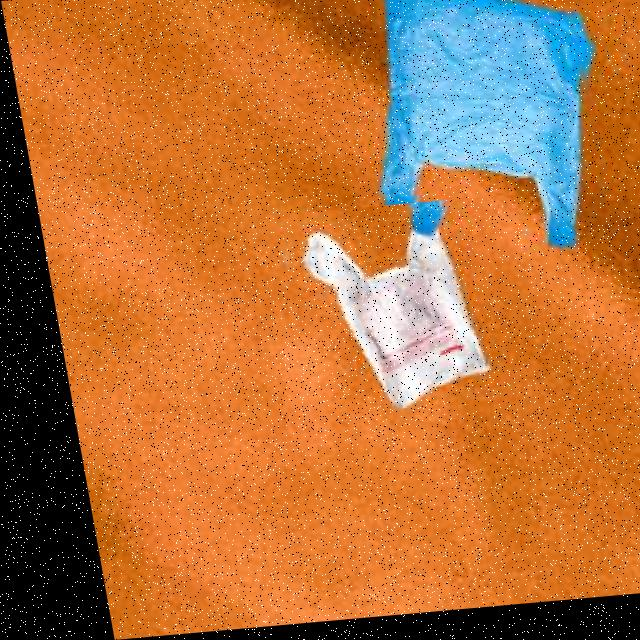litter: (338, 0, 614, 307), (249, 204, 500, 430)
